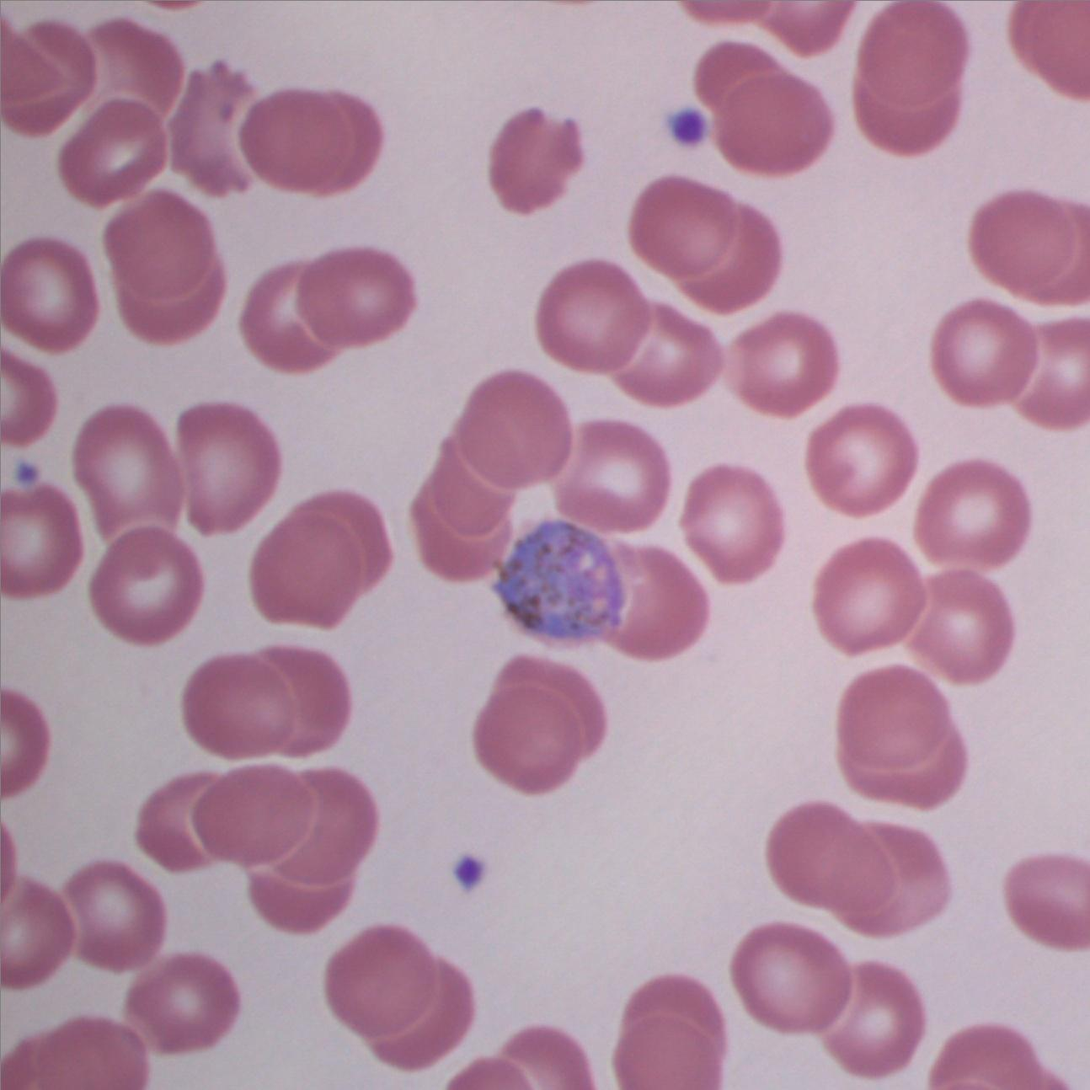Infected: (483, 509, 628, 650)
Uninfected: (629, 177, 779, 317), (248, 491, 393, 629), (835, 665, 961, 808), (72, 403, 189, 544), (239, 86, 382, 196), (323, 922, 445, 1050), (767, 801, 896, 922), (101, 187, 217, 317), (189, 761, 323, 873), (453, 369, 573, 493), (245, 815, 367, 933), (535, 250, 648, 377), (175, 401, 280, 535), (293, 246, 418, 357), (89, 526, 205, 645), (590, 296, 723, 399), (183, 651, 307, 760), (970, 190, 1089, 303), (813, 539, 925, 657), (368, 947, 476, 1068), (734, 924, 851, 1034), (555, 420, 667, 534), (473, 673, 578, 794), (612, 977, 724, 1090), (712, 70, 831, 176), (916, 458, 1029, 569), (61, 95, 174, 206), (803, 402, 912, 517), (410, 463, 512, 585), (595, 548, 704, 661), (168, 59, 258, 195), (719, 307, 833, 414), (275, 772, 378, 889), (931, 298, 1039, 408), (820, 962, 923, 1077), (681, 464, 783, 580), (911, 571, 1014, 685), (127, 951, 238, 1055), (483, 105, 584, 217), (847, 826, 950, 935), (852, 1, 961, 103), (1, 236, 98, 350), (62, 863, 163, 970), (845, 60, 956, 156), (87, 16, 187, 120), (241, 264, 334, 372), (2, 483, 85, 597), (136, 772, 223, 875), (1003, 854, 1089, 950), (1016, 318, 1090, 427), (3, 879, 77, 984)
